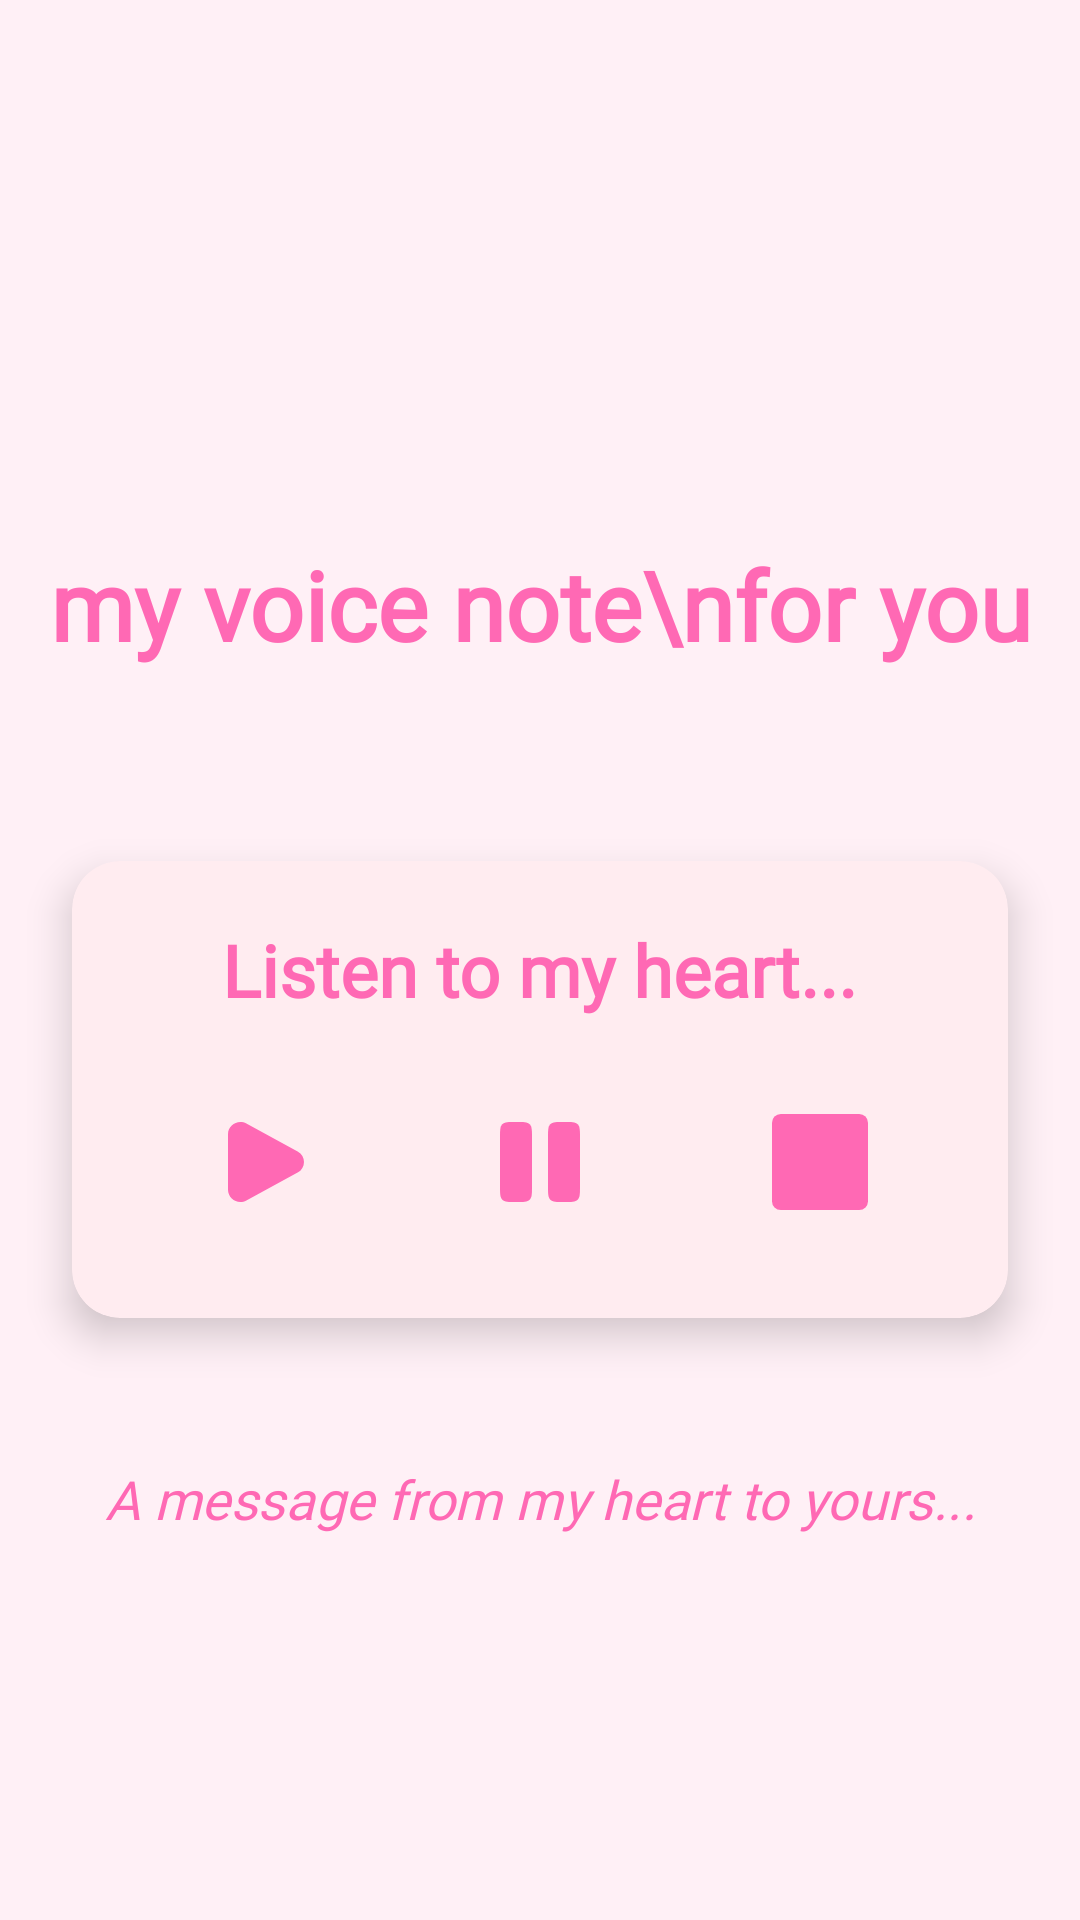

Icon bounding boxes for this 1080 x 1920 phone screenshot, format (x1=x1, y1=y1, x2=x2, y2=y2):
Pause: (x1=500, y1=1122, x2=580, y2=1202)
Play: (x1=228, y1=1122, x2=304, y2=1202)
